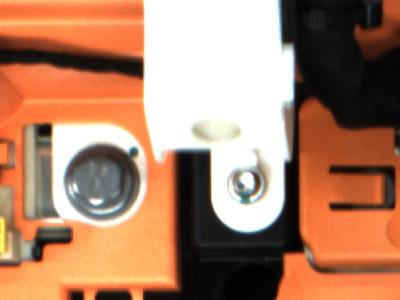nut_b: (60, 140, 144, 227)
screw_m: (221, 166, 272, 211)
